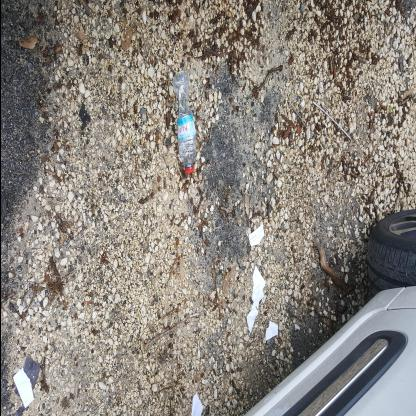plastik: (72, 220, 174, 245)
